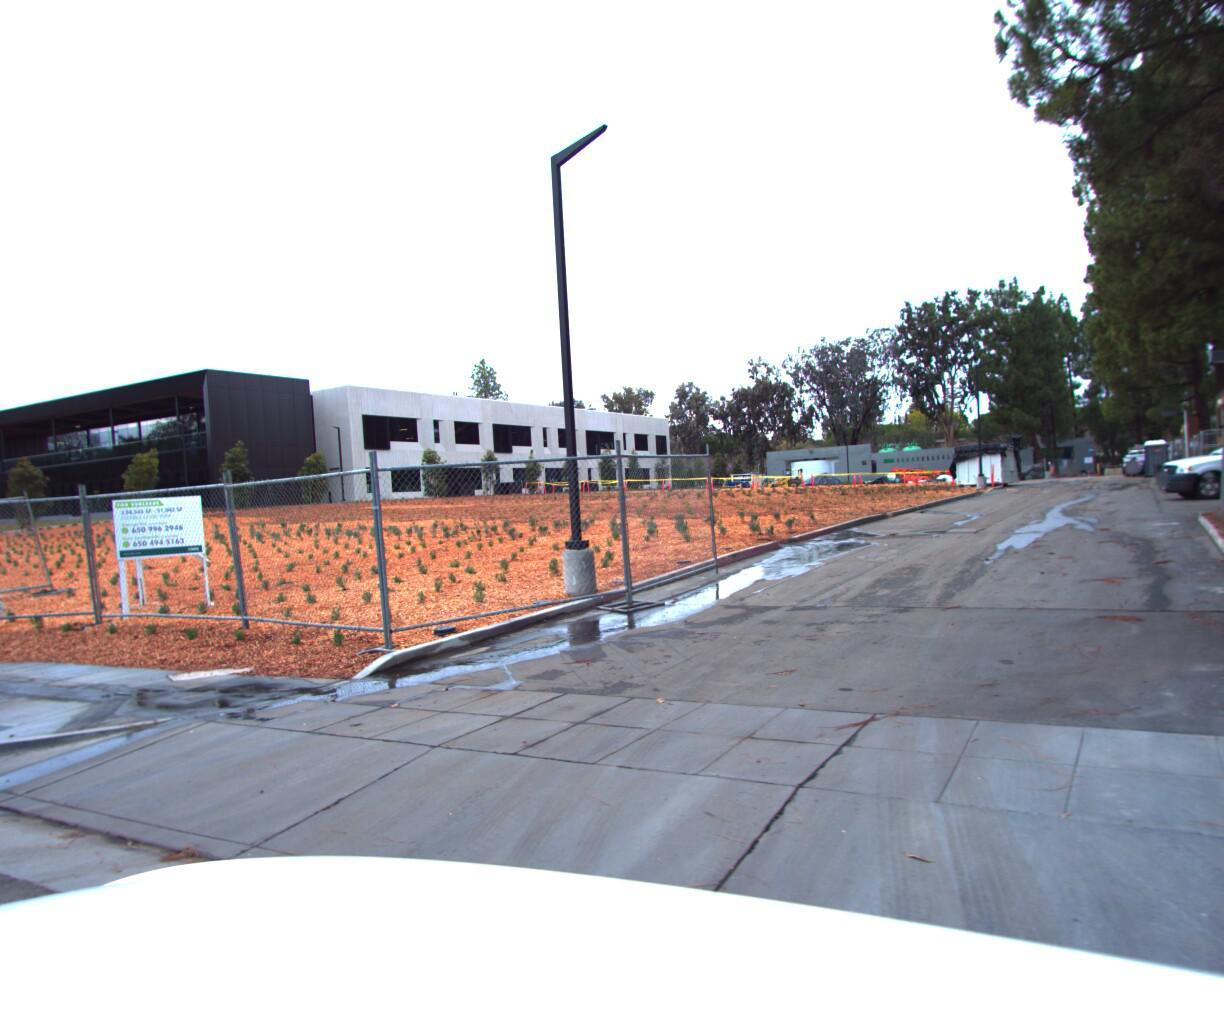car: (1139, 415, 1224, 503)
